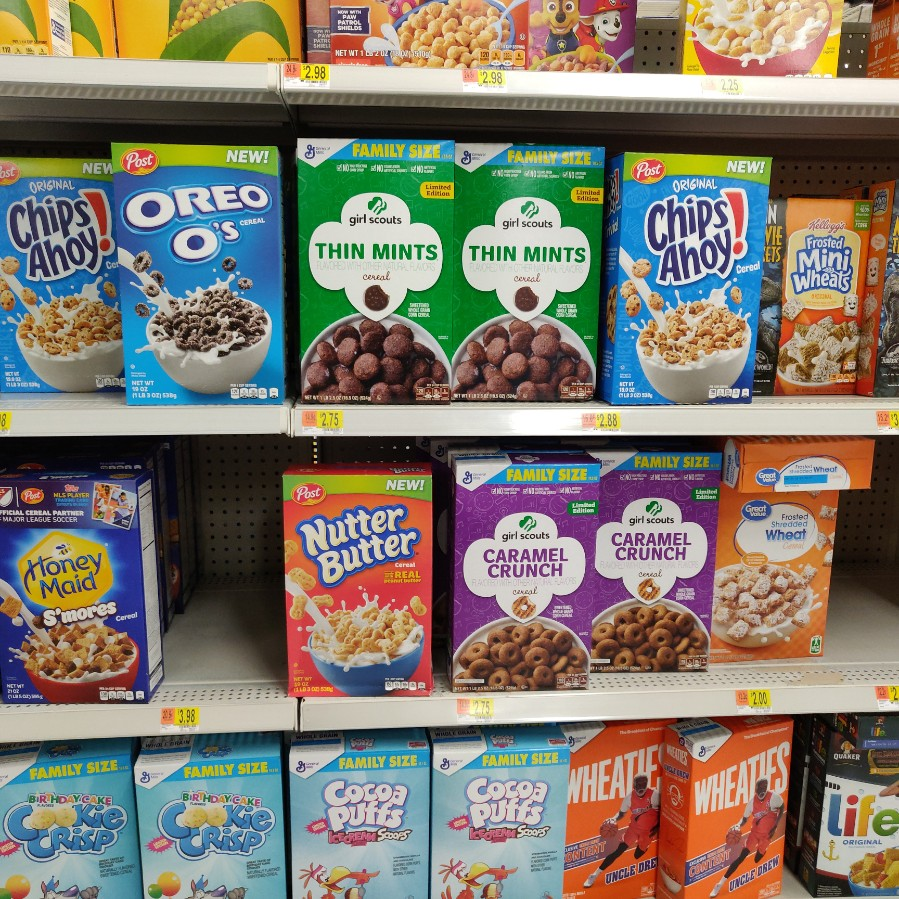Chips Ahoys-565717529: (619, 140, 764, 403), (3, 156, 122, 397)
Oreo-563424384: (113, 144, 293, 397)
